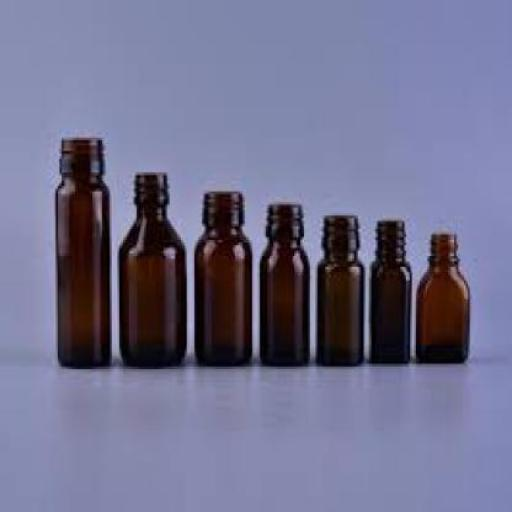glass: (54, 134, 110, 367), (120, 173, 184, 366), (191, 189, 252, 364), (258, 202, 308, 367), (315, 212, 362, 362), (414, 232, 468, 361), (370, 218, 412, 359)
